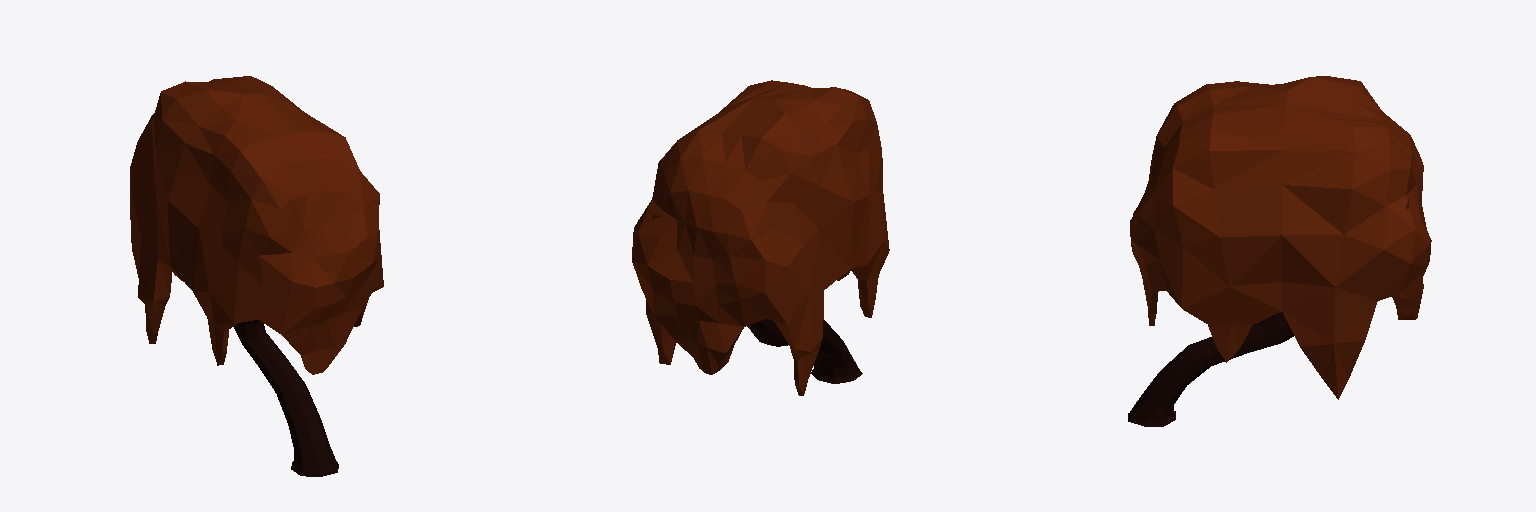
Rendered from Willow_Autumn_3_Cube.obj.
3 views of the same model, side by side, from view 1: azimuth 30°, elevation 25°; view 2: azimuth 150°, elevation 25°; view 3: azimuth 270°, elevation 25° (orthographic).
Parts seen in each view (by area): view 1: Willow_Autumn_3_Cube.086; view 2: Willow_Autumn_3_Cube.086; view 3: Willow_Autumn_3_Cube.086.
Boxes of the visible parts, box(x1,y1,x2,y2) form: Willow_Autumn_3_Cube.086: box(130, 76, 383, 476); Willow_Autumn_3_Cube.086: box(632, 80, 889, 395); Willow_Autumn_3_Cube.086: box(1128, 76, 1431, 426).
Bounding box in the file's own units: 1.32 × 2.35 × 1.98.